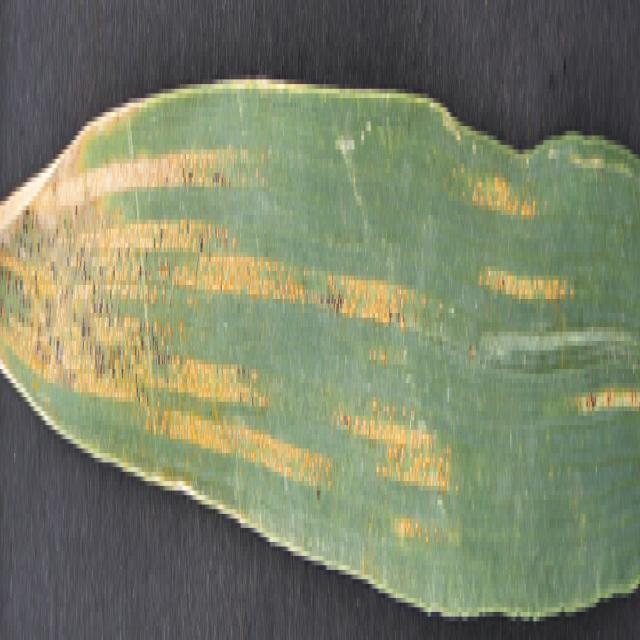leaf rust: (2, 23, 463, 589), (470, 168, 639, 449)
